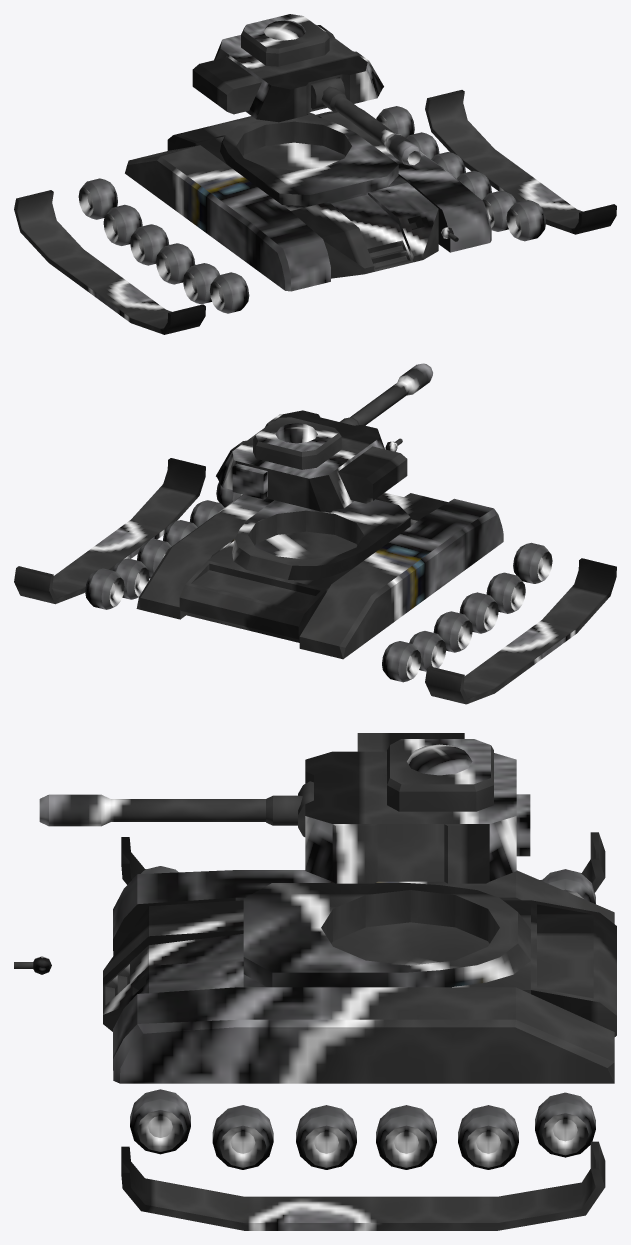
File: Scorpion X.FBX
3 views of the same model, one above another, from view 1: azimuth 30°, elevation 25°; view 2: azimuth 150°, elevation 25°; view 3: azimuth 270°, elevation 25° (orthographic). The views are drawn at different scales.
Parts seen in each view (by area): view 1: body, turret, trackl, trackr, barrel_1, wheel7, wheel1, wheel6, wheel3, wheel5, wheel4, wheel2 (+6 smaller); view 2: body, turret, trackl, trackr, barrel_1, wheel6, wheel12, wheel1, wheel2, wheel4, wheel3, wheel5 (+4 smaller); view 3: body, turret, trackr, barrel_1, wheel8, wheel7, wheel9, wheel10, wheel11, wheel12, trackl, mantlet_1 (+1 smaller).
Boxes of the visible parts, x1=… form: body: x1=125, y1=108, x2=491, y2=291; turret: x1=192, y1=14, x2=383, y2=122; trackl: x1=14, y1=190, x2=205, y2=334; trackr: x1=425, y1=90, x2=616, y2=234; barrel_1: x1=334, y1=97, x2=421, y2=165; wheel7: x1=506, y1=200, x2=545, y2=241; wheel1: x1=210, y1=272, x2=249, y2=313; wheel6: x1=78, y1=178, x2=117, y2=219; wheel3: x1=156, y1=243, x2=195, y2=284; wheel5: x1=103, y1=204, x2=142, y2=245; wheel4: x1=130, y1=224, x2=169, y2=265; wheel2: x1=183, y1=263, x2=219, y2=304; body: x1=136, y1=492, x2=503, y2=659; turret: x1=216, y1=410, x2=407, y2=511; trackl: x1=425, y1=558, x2=616, y2=704; trackr: x1=14, y1=458, x2=205, y2=604; barrel_1: x1=350, y1=363, x2=432, y2=425; wheel6: x1=382, y1=641, x2=421, y2=682; wheel12: x1=85, y1=568, x2=124, y2=609; wheel1: x1=513, y1=542, x2=552, y2=583; wheel2: x1=486, y1=572, x2=525, y2=613; wheel4: x1=433, y1=611, x2=472, y2=652; wheel3: x1=459, y1=592, x2=498, y2=633; wheel5: x1=409, y1=631, x2=446, y2=671; body: x1=103, y1=870, x2=616, y2=1083; turret: x1=305, y1=733, x2=530, y2=883; trackr: x1=121, y1=1141, x2=605, y2=1230; barrel_1: x1=39, y1=794, x2=265, y2=826; wheel8: x1=212, y1=1105, x2=273, y2=1169; wheel7: x1=130, y1=1089, x2=190, y2=1154; wheel9: x1=296, y1=1105, x2=356, y2=1169; wheel10: x1=376, y1=1105, x2=436, y2=1169; wheel11: x1=458, y1=1105, x2=518, y2=1169; wheel12: x1=535, y1=1092, x2=595, y2=1157; trackl: x1=121, y1=832, x2=605, y2=892; mantlet_1: x1=266, y1=781, x2=313, y2=836.
Bounding box in the file's own units: 45.28 × 19.31 × 34.35.
